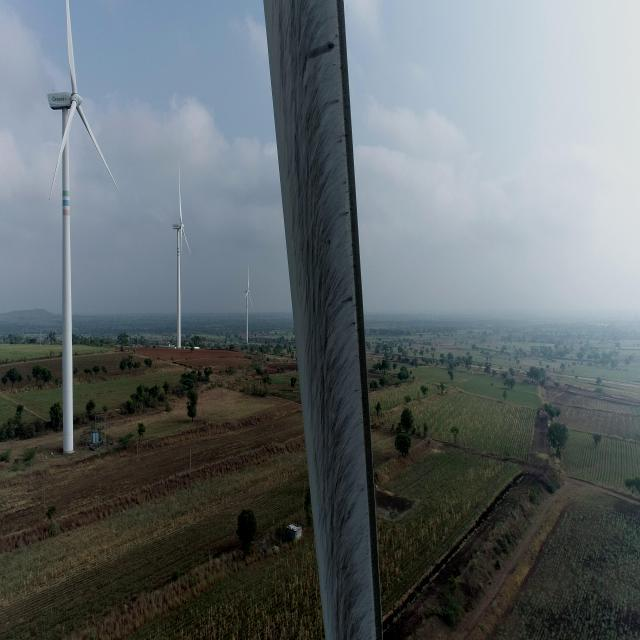Dirt: (259, 0, 382, 640)
Pin Hole: (323, 38, 339, 54), (320, 234, 334, 250), (350, 383, 364, 397), (335, 132, 345, 150), (340, 176, 352, 191), (347, 290, 356, 306), (332, 95, 342, 108)
